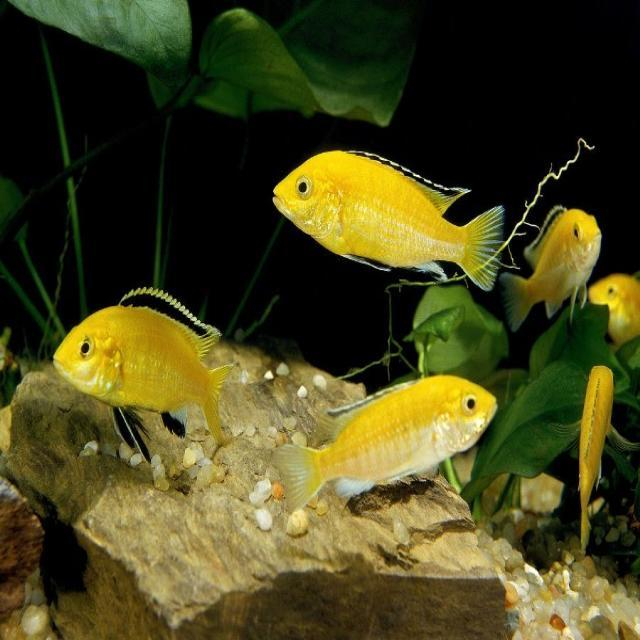YellowCichlid: (264, 117, 511, 320), (45, 234, 240, 491), (268, 364, 500, 534), (568, 360, 630, 558), (520, 194, 596, 350)
